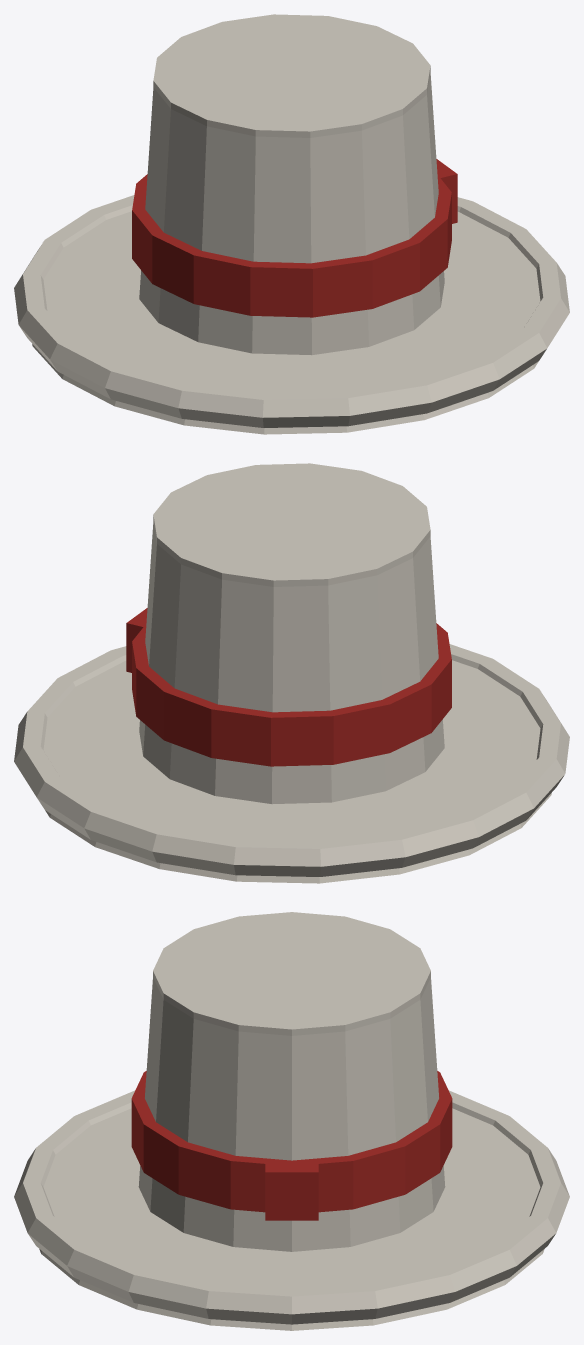
The model's file is hat.glb.
The picture shows the model from 3 angles, top to bottom: view 1: azimuth 30°, elevation 25°; view 2: azimuth 150°, elevation 25°; view 3: azimuth 270°, elevation 25°; orthographic projection.
Visible parts, largest first — view 1: hat; view 2: hat; view 3: hat.
Boxes of the visible parts, box(x1,y1,x2,y2) form: hat: box(14, 14, 569, 434); hat: box(14, 463, 569, 883); hat: box(14, 912, 569, 1330).
Size of the model in its own units: 0.312 by 0.154 by 0.312.
